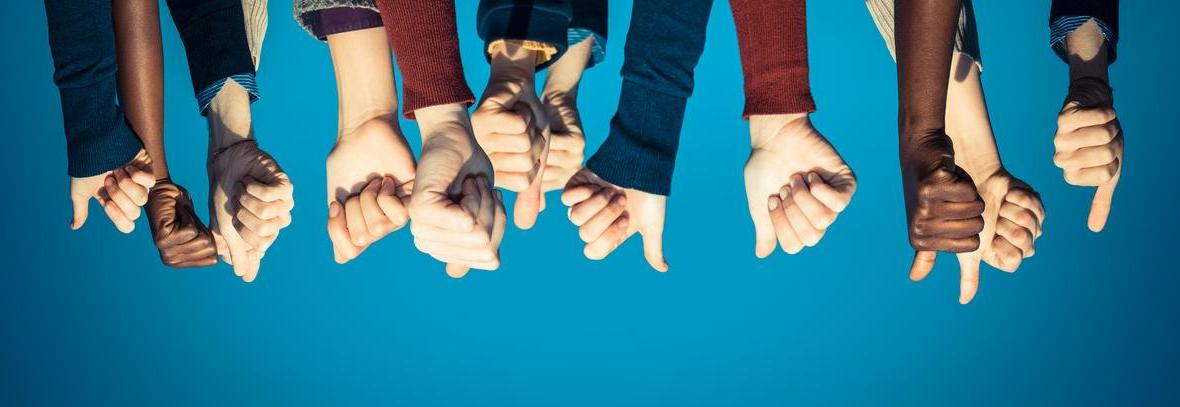thumbsdown: (958, 188, 1047, 305), (560, 183, 670, 275), (1052, 104, 1126, 235), (906, 167, 986, 283), (63, 139, 157, 233), (485, 99, 545, 229), (231, 172, 294, 277)
